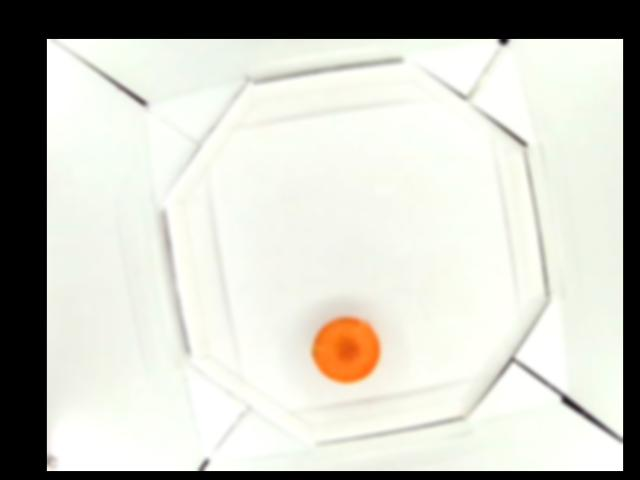Carrot: (311, 316, 381, 383)
